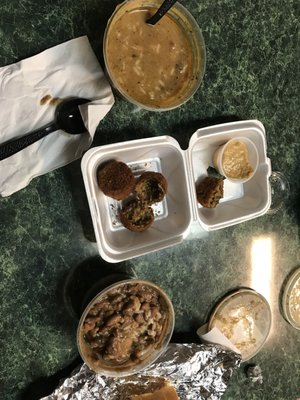salad: (80, 120, 271, 264)
